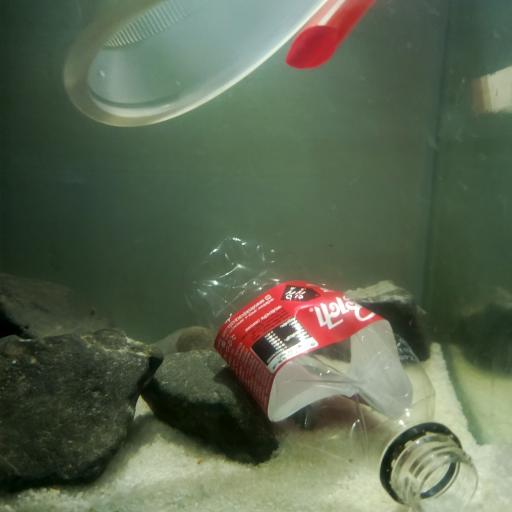plastic_bottle: (188, 226, 474, 506)
plastic_cup: (66, 0, 340, 132)
plastic_straw: (287, 0, 366, 70)
